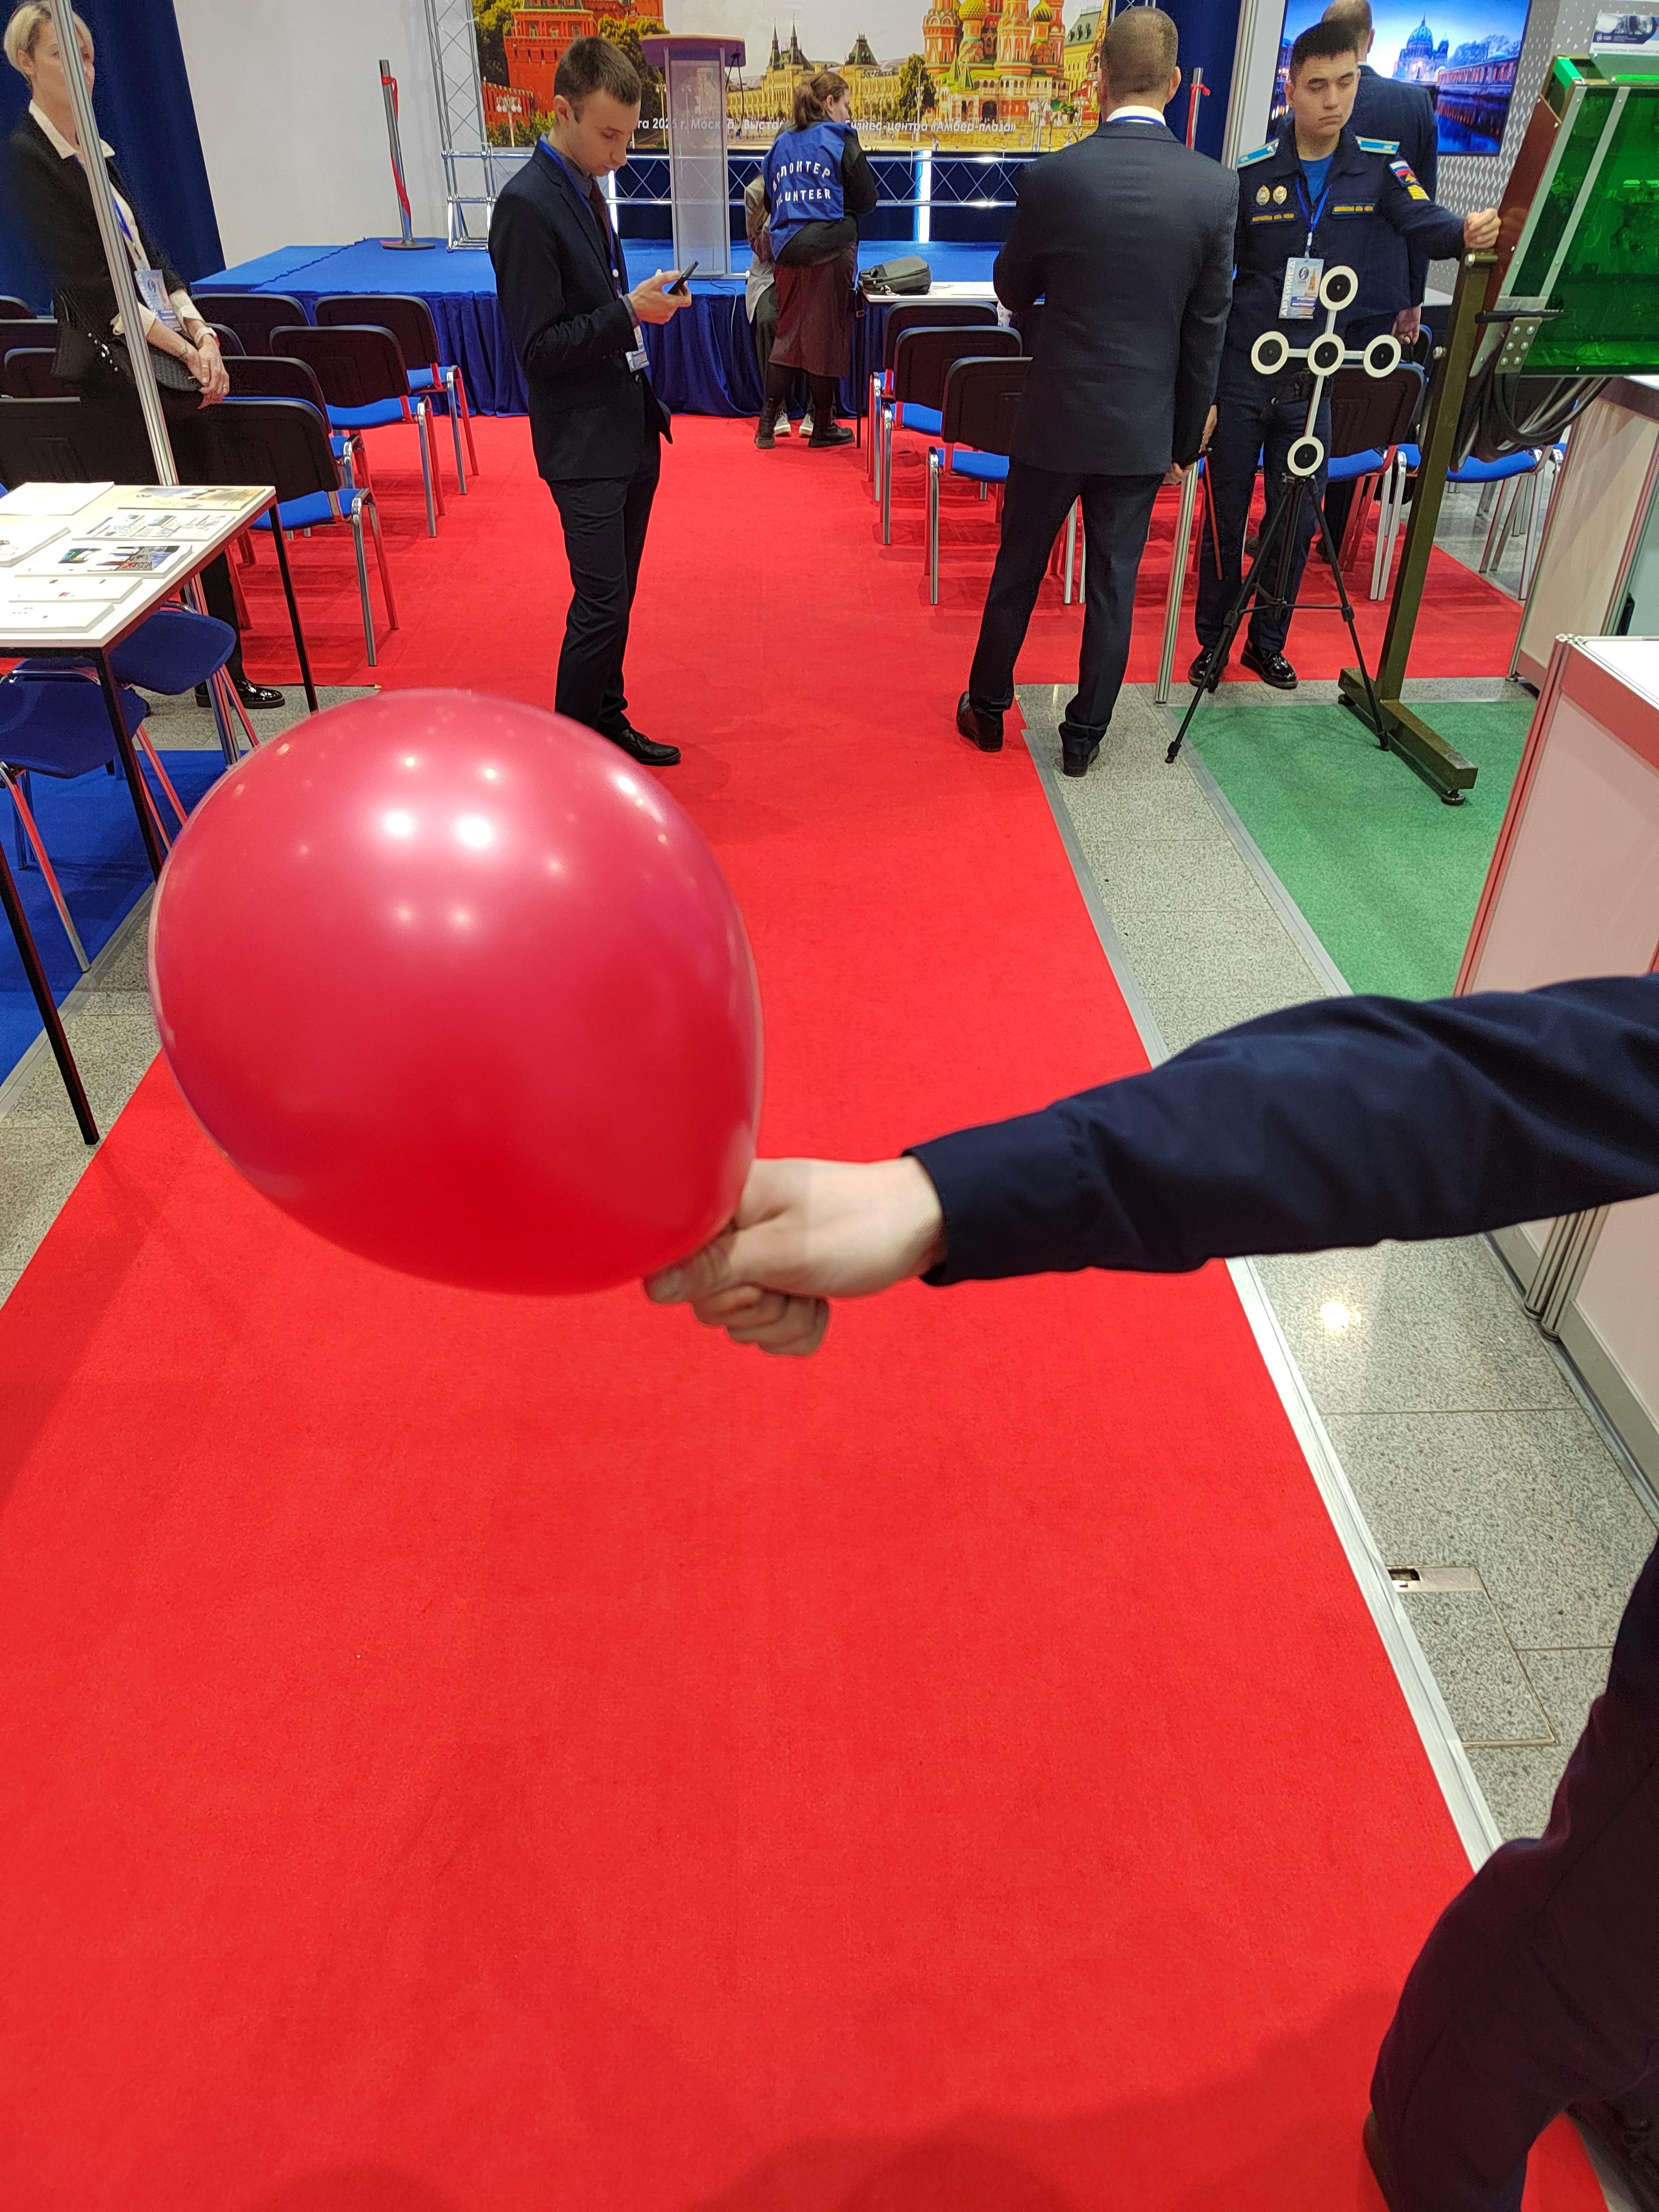red: (136, 681, 767, 1301)
